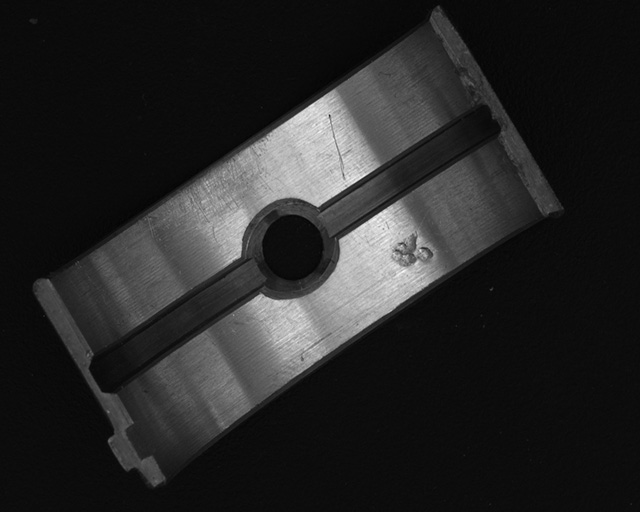bruise: (389, 227, 436, 268)
gap: (89, 259, 268, 392), (319, 106, 500, 234)
hole: (244, 203, 338, 301)
nick: (327, 113, 348, 183)
scratch: (135, 130, 276, 248)
